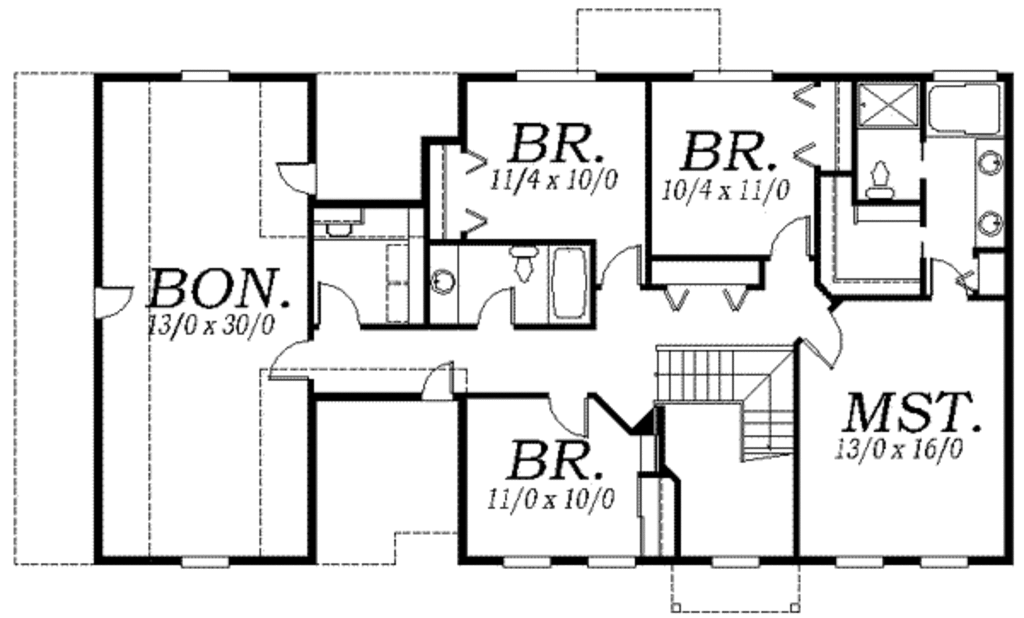door: (797, 306, 845, 370), (263, 338, 315, 387), (314, 278, 359, 334), (595, 245, 645, 292), (470, 284, 520, 328), (546, 392, 593, 437), (770, 214, 814, 261), (275, 159, 317, 200), (93, 284, 135, 322), (418, 360, 456, 402)
large_sink: (501, 243, 544, 286), (861, 157, 900, 200)
small_sink: (973, 141, 1008, 250), (425, 242, 465, 322)
stairs: (654, 339, 793, 465)
tub: (923, 78, 1006, 141), (545, 239, 595, 327)
window: (506, 67, 601, 86), (688, 66, 775, 86), (173, 551, 233, 572), (171, 66, 237, 84), (582, 552, 642, 571), (830, 553, 884, 571), (919, 551, 970, 570), (495, 553, 554, 569), (708, 554, 762, 571)
